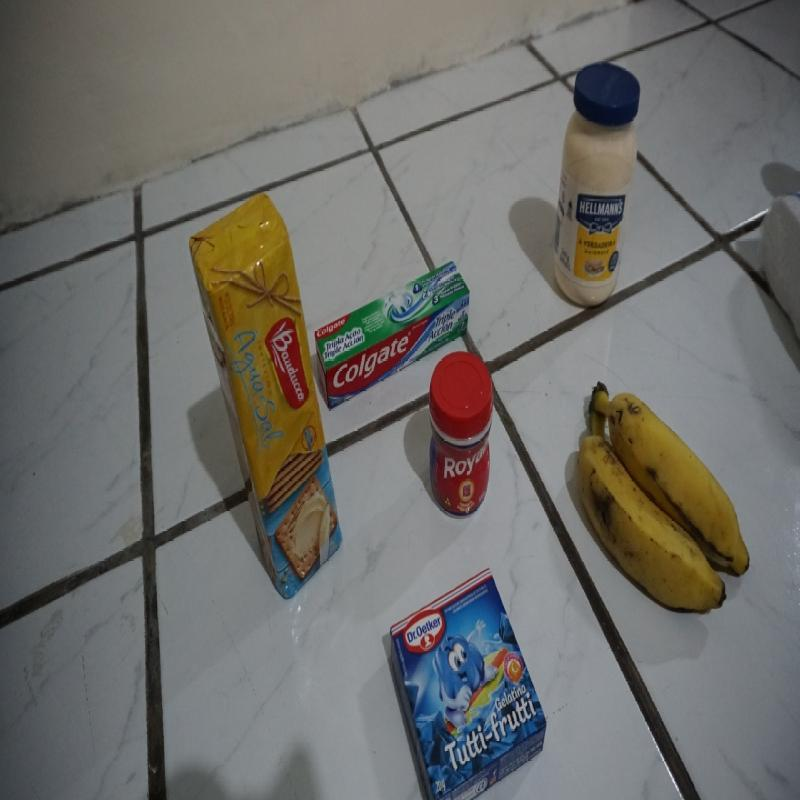Banana: (577, 383, 752, 618)
Cracker: (188, 193, 344, 605)
Gelatine: (389, 563, 548, 798)
Mayonnaise: (551, 58, 640, 307)
Toothpaste: (315, 261, 470, 409)
Yeast: (426, 351, 495, 521)
